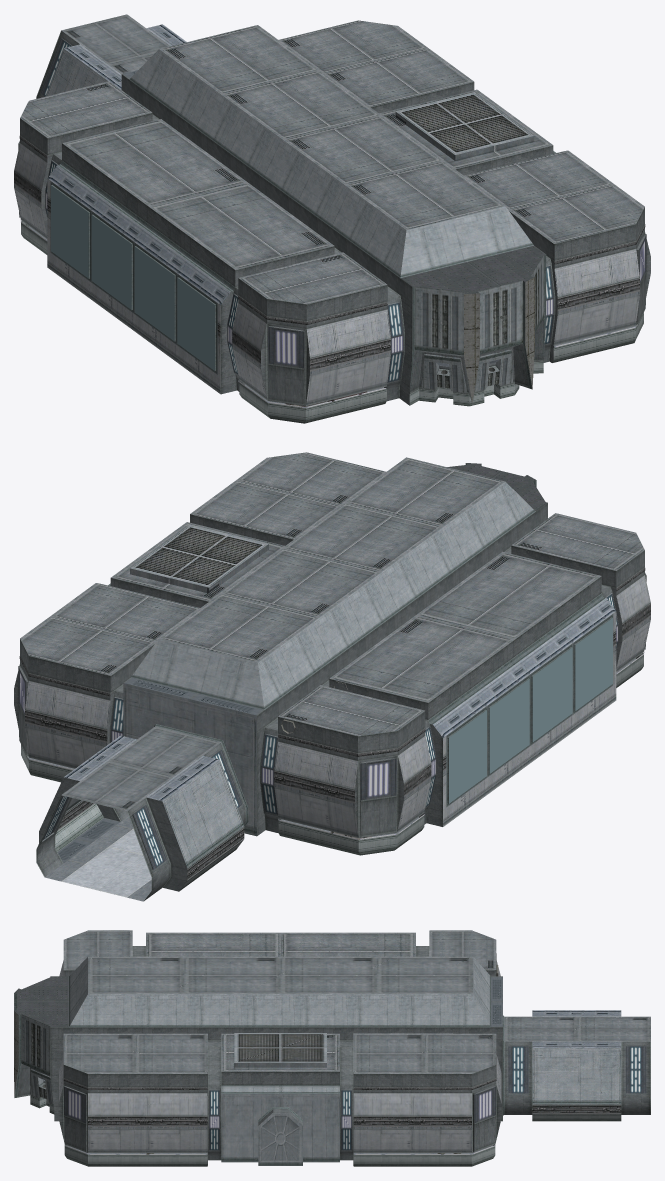
File: thm_newbie_hall_r1_mesh_r1.fbx
3 renders of one model, top to bottom at view 1: azimuth 30°, elevation 25°; view 2: azimuth 150°, elevation 25°; view 3: azimuth 270°, elevation 25°, orthographic. The views are drawn at different scales.
Parts seen in each view (by area): view 1: mesh_node; view 2: mesh_node; view 3: mesh_node.
Part boxes in pixels (x1,y1,x2,y2): mesh_node: [14, 14, 650, 423]; mesh_node: [14, 452, 650, 901]; mesh_node: [14, 930, 650, 1166].
Bounding box in the file's own units: 2478 × 900 × 4300.
